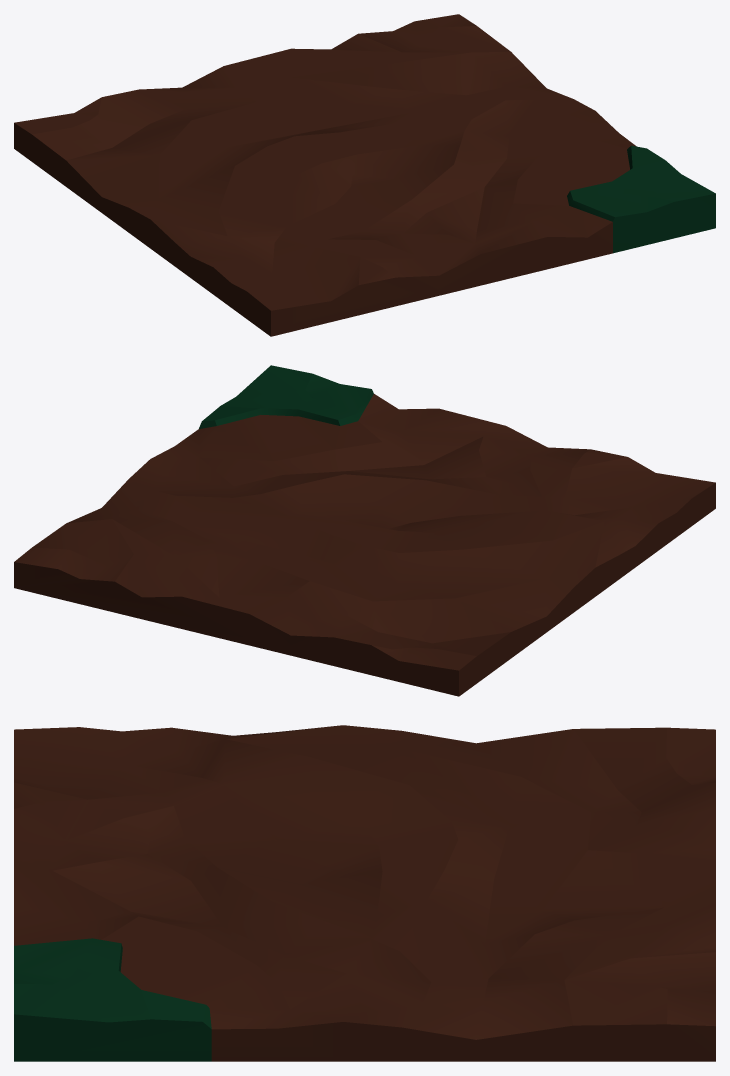
The model's file is Ground_Corner_External_RB.fbx.
3 views of the same model, one above another, from view 1: azimuth 30°, elevation 25°; view 2: azimuth 150°, elevation 25°; view 3: azimuth 270°, elevation 25° (orthographic). The views are drawn at different scales.
Parts seen in each view (by area): view 1: Ground_Corner_External_RB; view 2: Ground_Corner_External_RB; view 3: Ground_Corner_External_RB.
Boxes of the visible parts, bbox=[...] form: Ground_Corner_External_RB: bbox=[14, 14, 715, 336]; Ground_Corner_External_RB: bbox=[14, 365, 715, 696]; Ground_Corner_External_RB: bbox=[14, 725, 715, 1061].
Bounding box in the file's own units: 147 × 12.24 × 147.
